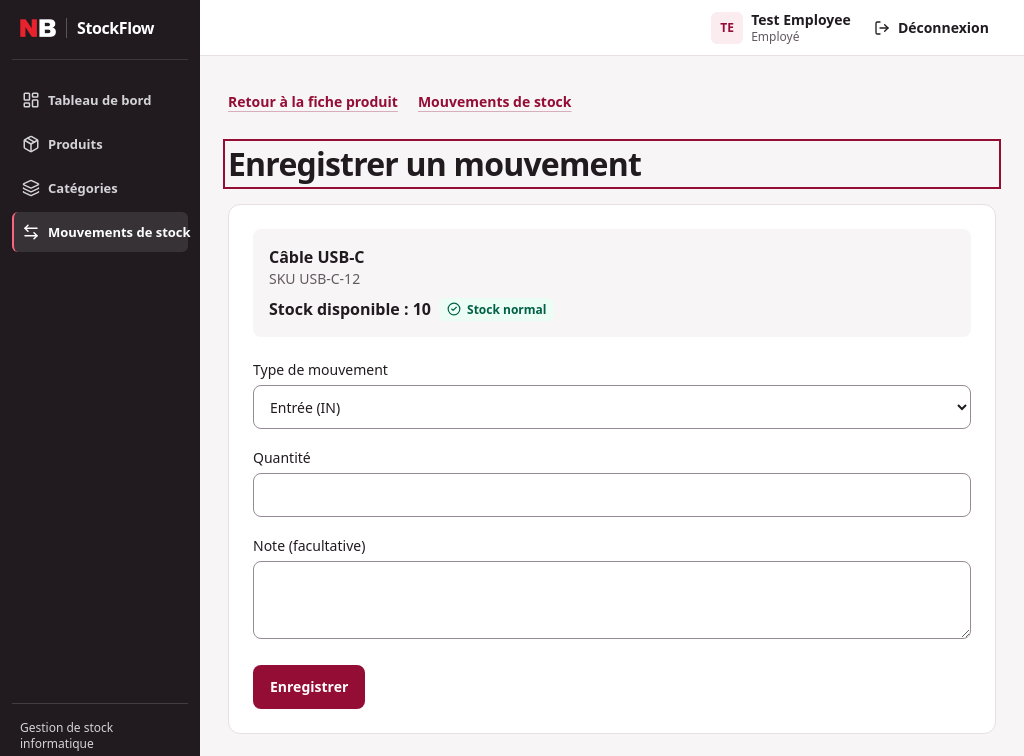
Test: validates the quantity and prevents a withdrawal above the displayed stock
Select "Sortie (OUT)" in the dropdown labelled "Type de mouvement" at (612,407), box [253, 385, 971, 429]
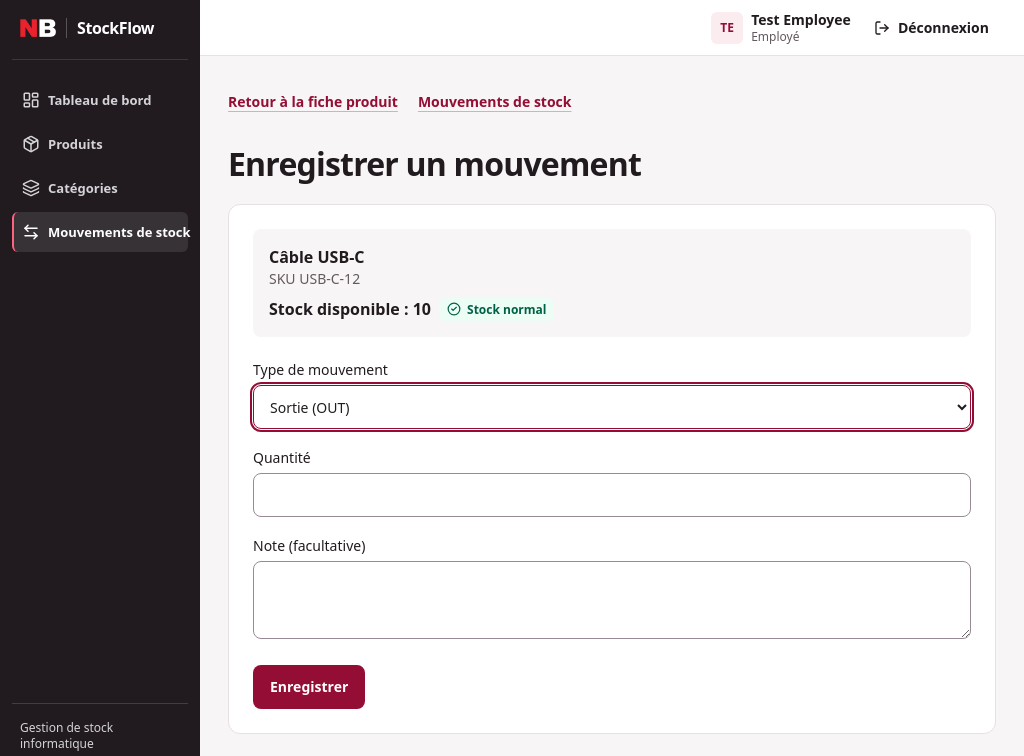
Type "0" into the field labelled "Quantité" at (612,495), box [253, 473, 971, 517]
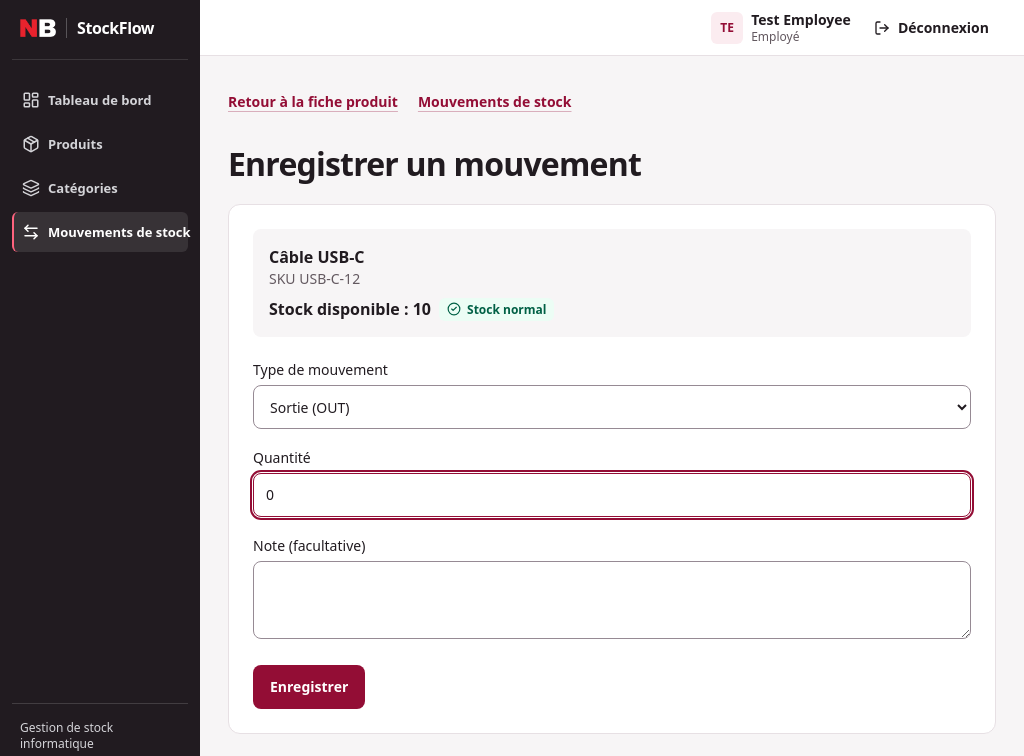
Click the button "Enregistrer" at (309,687), box [253, 665, 365, 709]
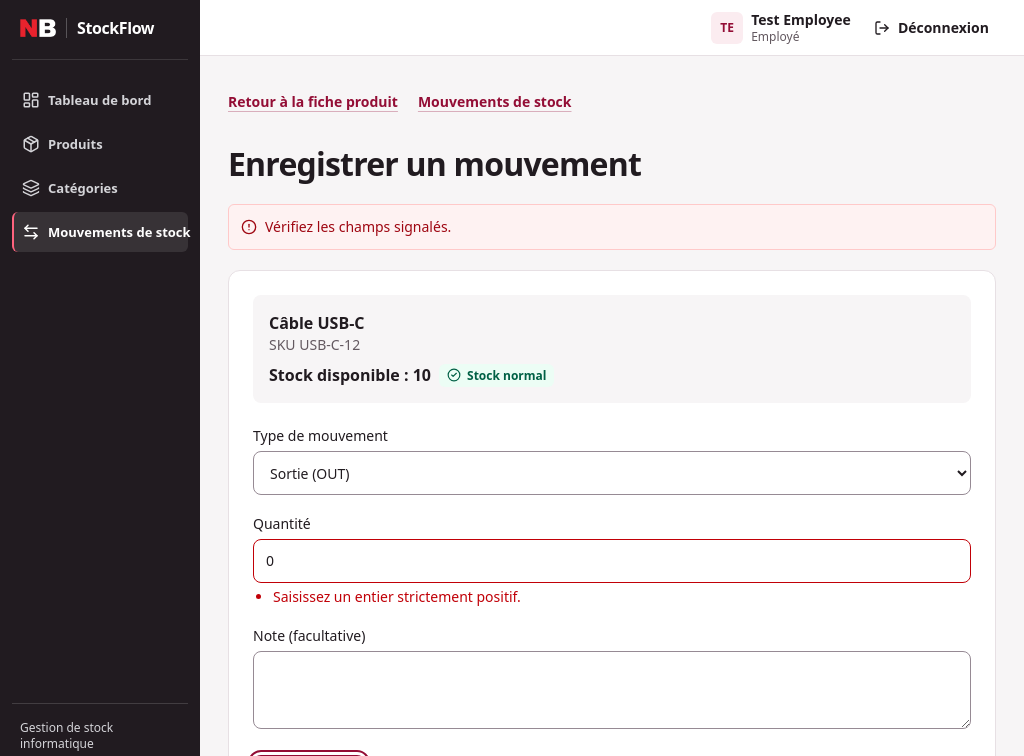
Now the list item "Saisissez un entier strictement positif." is shown, box [273, 587, 521, 606]
Replace the text in the field labelled "Quantité" with "11" at (612,561), box [253, 539, 971, 583]
(page scrolled)
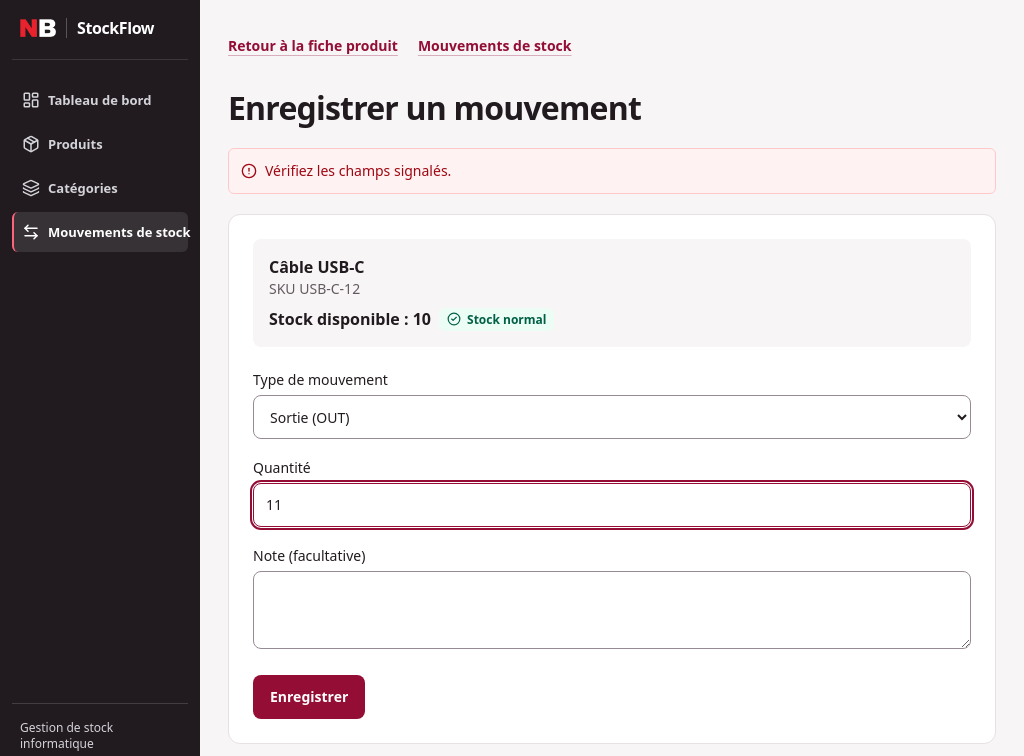
Click the button "Enregistrer" at (309,697), box [253, 675, 365, 719]
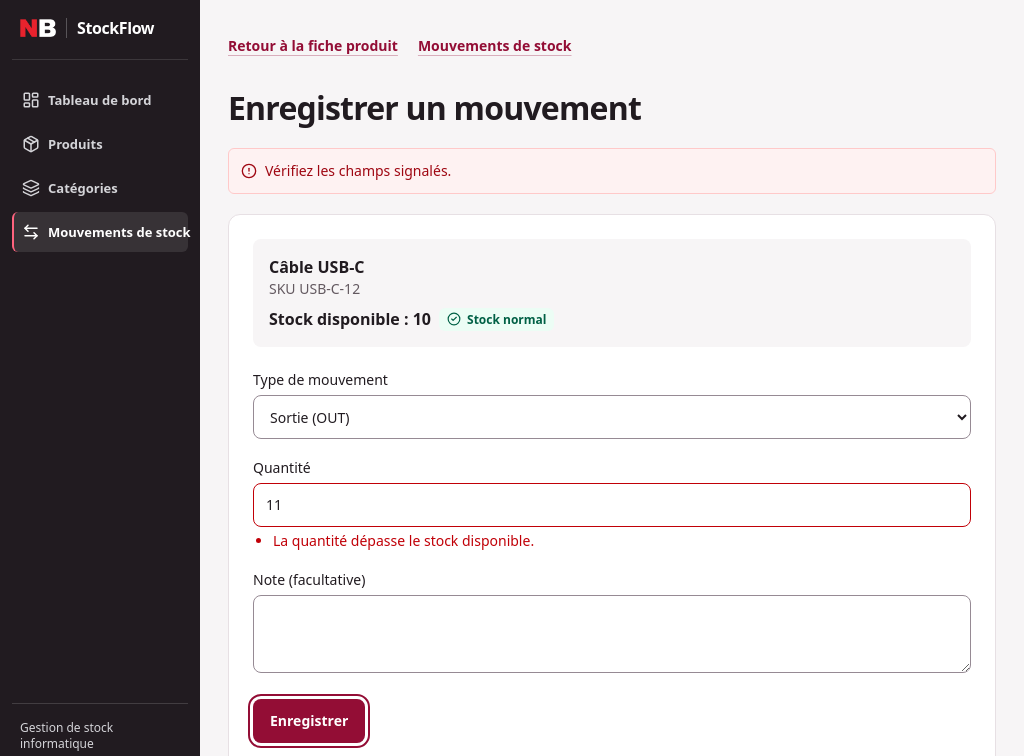
Now the list item "La quantité dépasse le stock disponible." is shown, box [273, 531, 534, 550]
